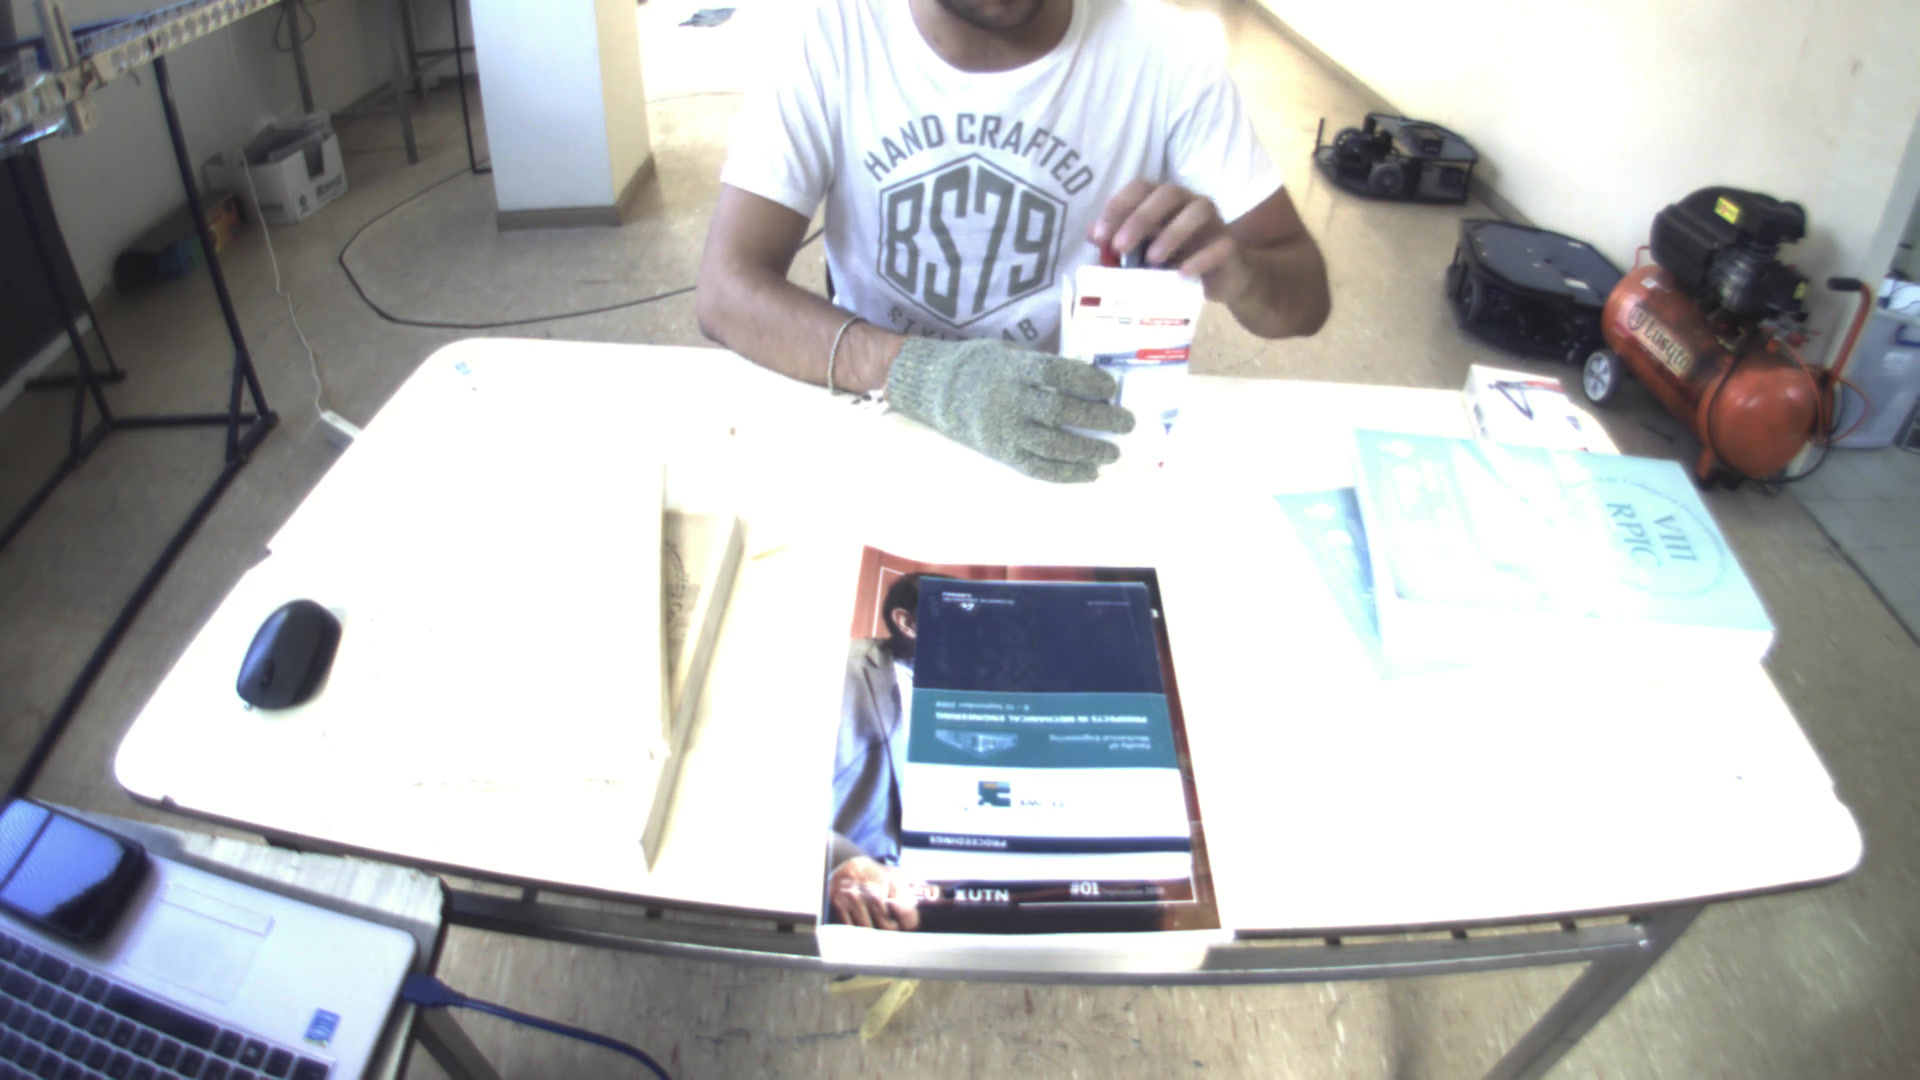hand: (872, 326, 1153, 487), (1084, 167, 1240, 311)
